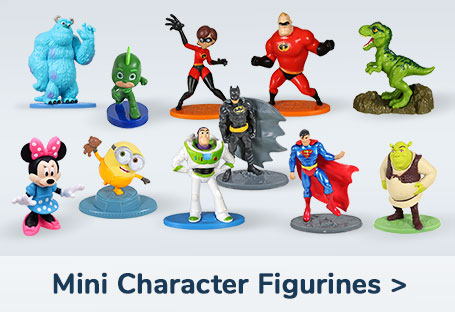toy: (28, 4, 158, 129)
